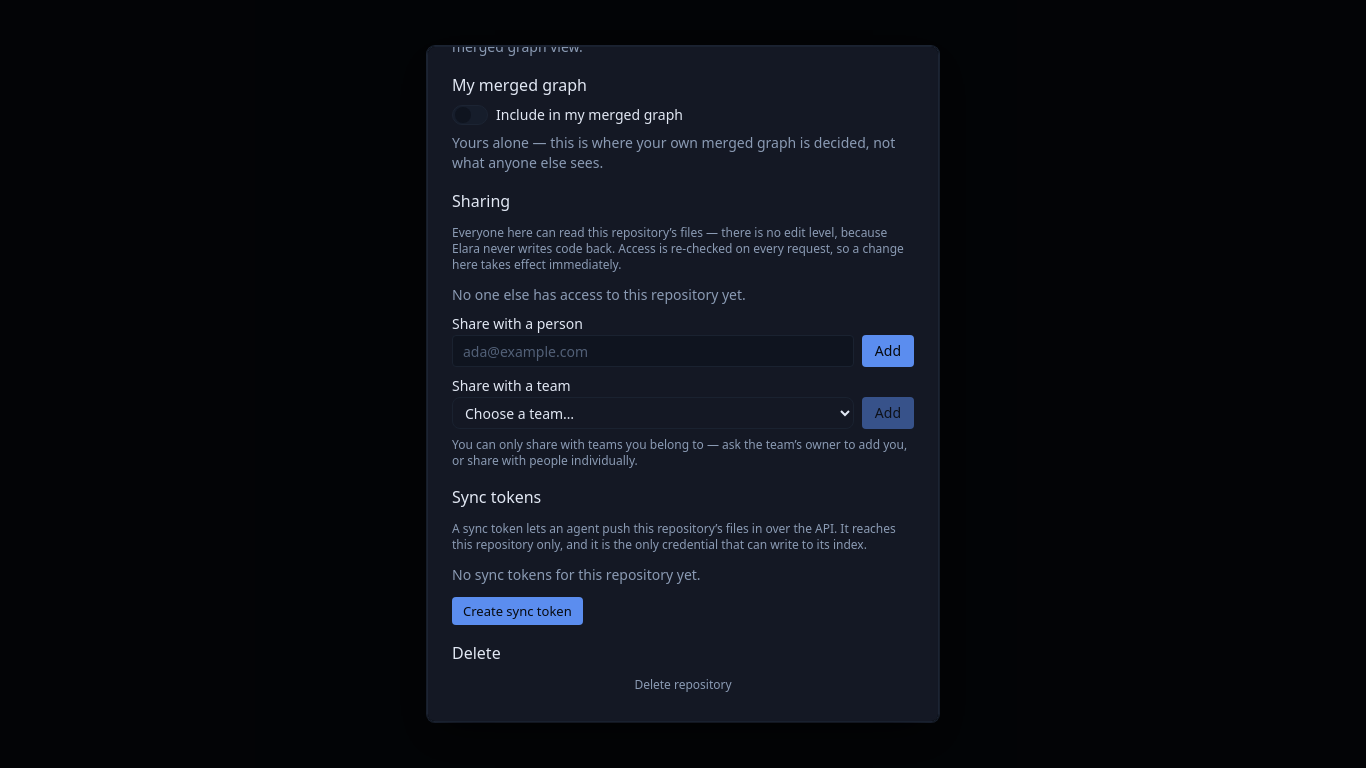
Test: RepositorySettingsDialog › tells the truth about a folder repository instead of the git sentence
(page scrolled)
Click the button with aria-label "Delete Notes".
click(683, 685)  # box [452,673,914,697]
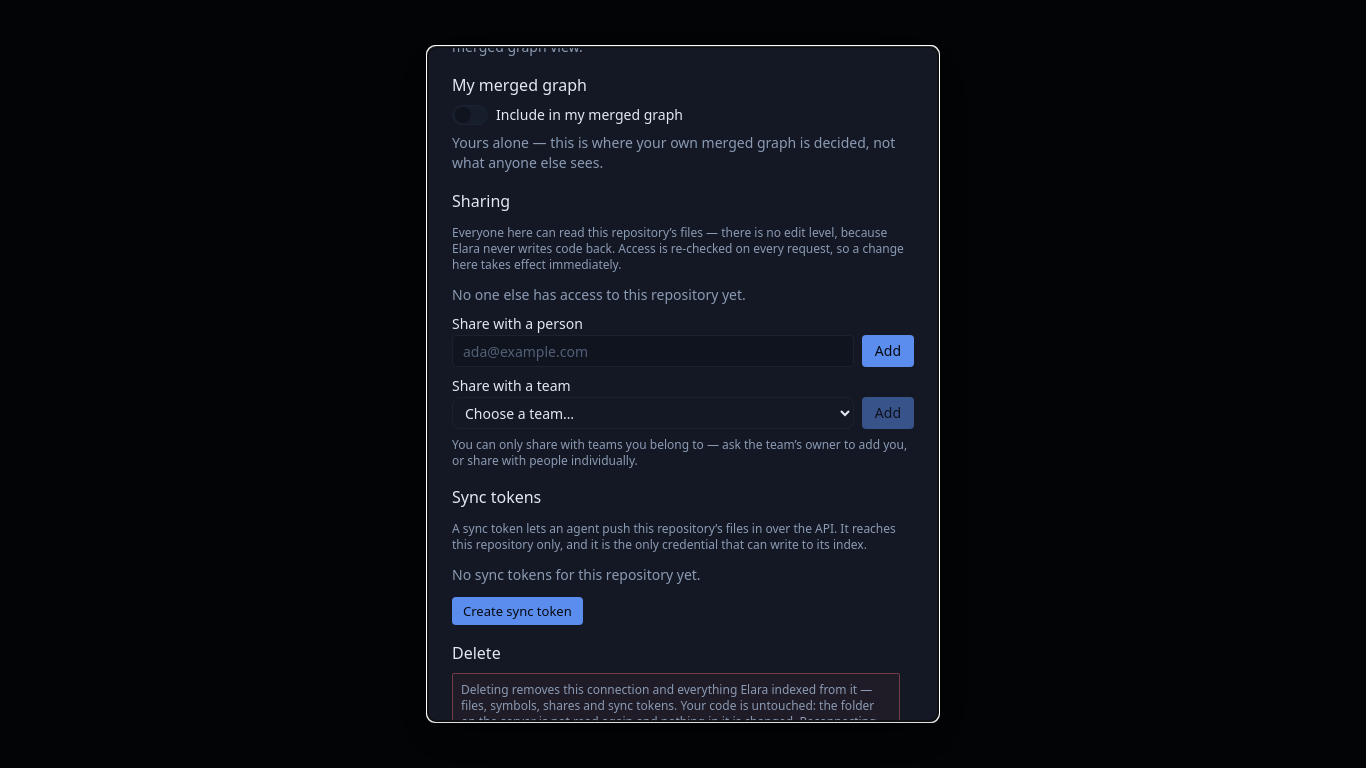
Expected: the text "the folder on the server is not read again" is shown, [461,681,876,722]
